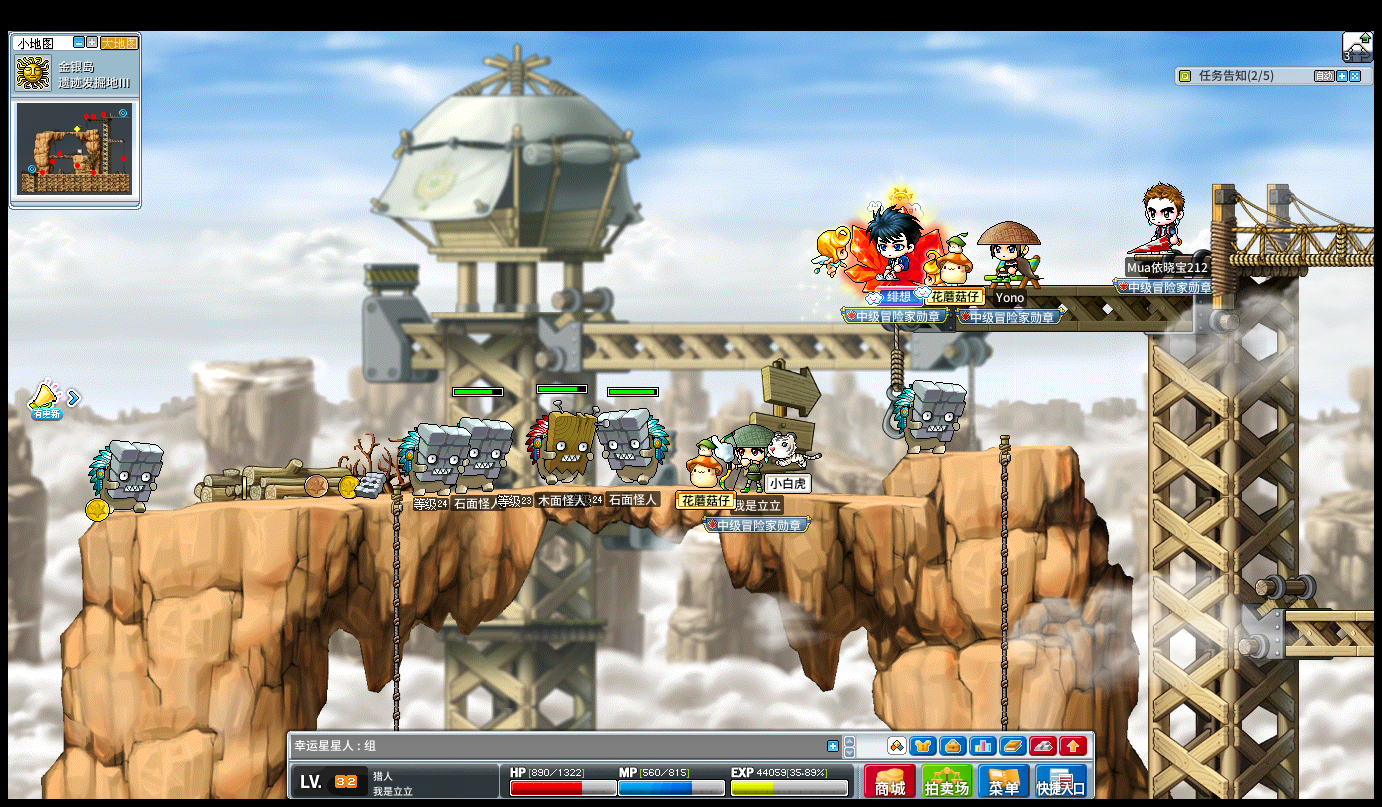floor: (93, 479, 907, 513), (95, 482, 972, 503), (71, 481, 975, 496), (899, 443, 1074, 459), (1212, 220, 1376, 234), (1283, 605, 1376, 620)
monster: (525, 402, 602, 486), (88, 439, 164, 516), (892, 379, 966, 455), (598, 408, 670, 486), (398, 421, 466, 495), (462, 417, 515, 489)
rope: (388, 480, 402, 807), (996, 433, 1011, 715), (388, 484, 403, 754)
